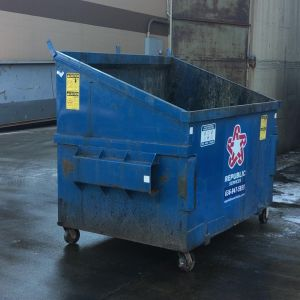Dumpster: (44, 38, 285, 273)
